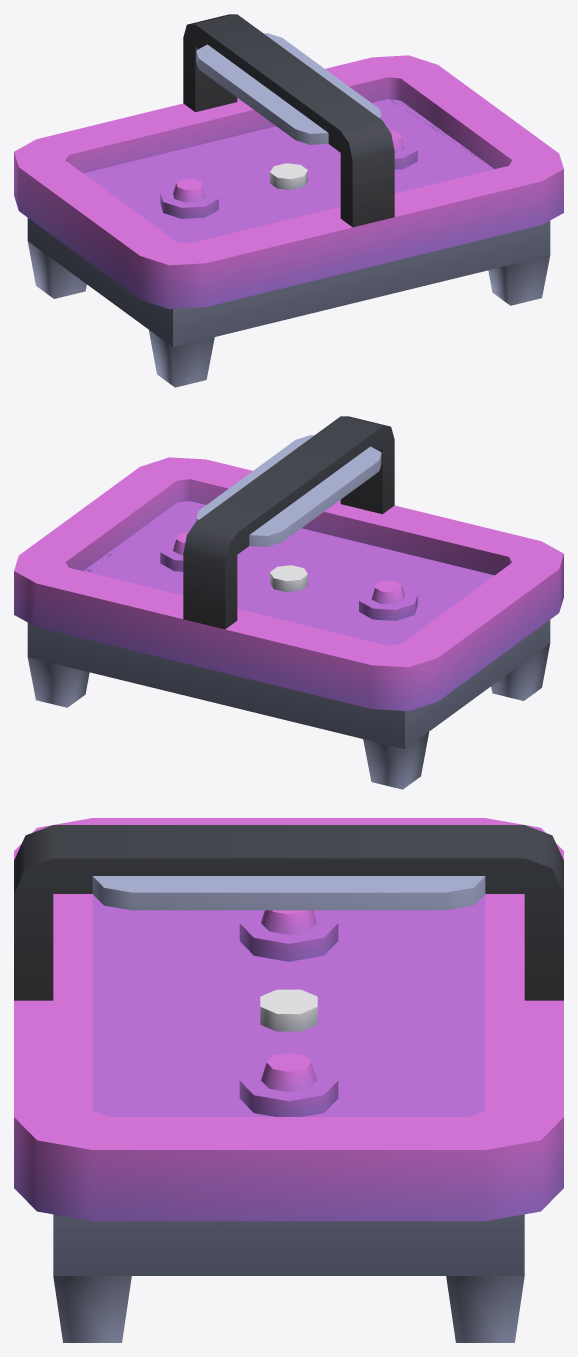
Rendered from air-hockey.glb.
The picture shows the model from 3 angles, top to bottom: view 1: azimuth 30°, elevation 25°; view 2: azimuth 150°, elevation 25°; view 3: azimuth 270°, elevation 25°; orthographic projection. The views are drawn at different scales.
Visible parts, largest first — view 1: air-hockey; view 2: air-hockey; view 3: air-hockey.
Boxes of the visible parts, x1,y1,x2,y2 form: air-hockey: (14,14,563,387); air-hockey: (14,416,563,789); air-hockey: (14,818,563,1342).
Size of the model in its own units: 1 by 0.5001 by 0.7.
Materials: 1 (1 with a texture image).
